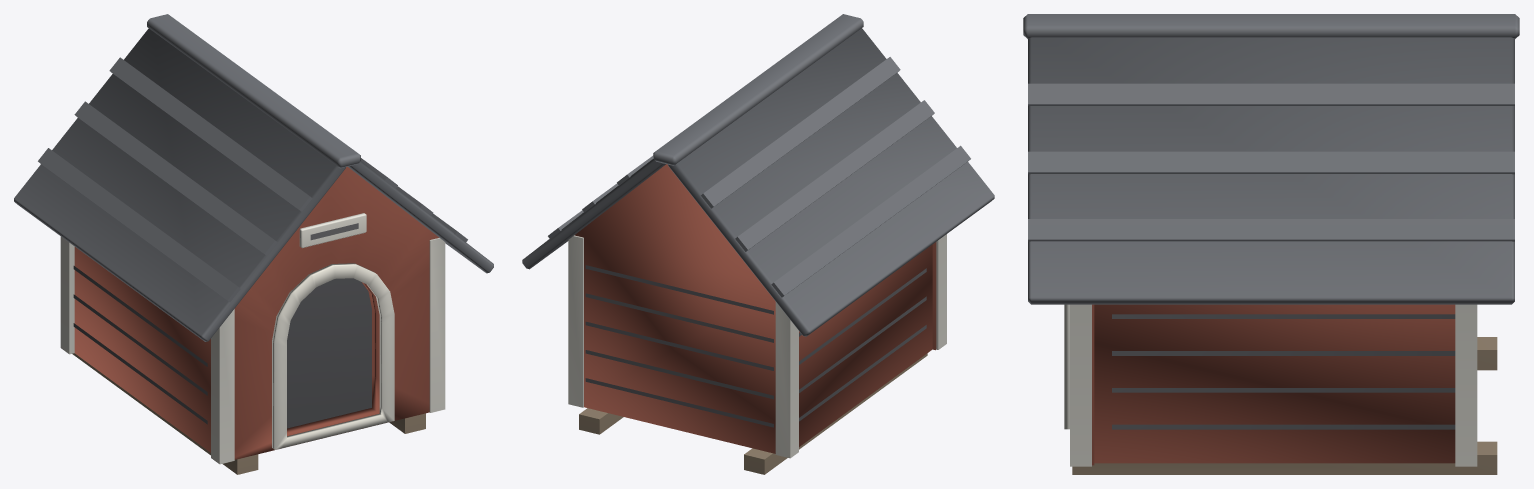
Rendered from doghouse.glb.
3 views of the same model, side by side, from view 1: azimuth 30°, elevation 25°; view 2: azimuth 150°, elevation 25°; view 3: azimuth 270°, elevation 25° (orthographic). The views are drawn at different scales.
Parts seen in each view (by area): view 1: suburb_doghouse; view 2: suburb_doghouse; view 3: suburb_doghouse.
Boxes of the visible parts, box(x1,y1,x2,y2) form: suburb_doghouse: box(14, 14, 493, 474); suburb_doghouse: box(522, 14, 994, 474); suburb_doghouse: box(1023, 14, 1519, 474).
Bounding box in the file's own units: 0.9776 × 0.9875 × 1.12.
